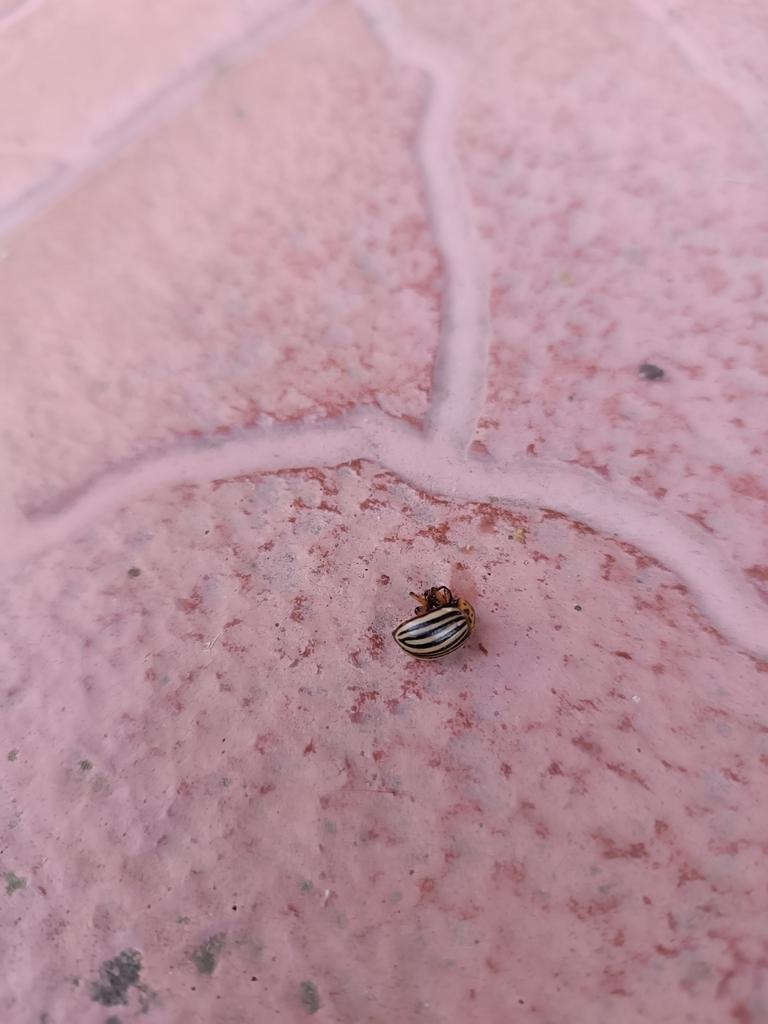potato_beetle: (365, 564, 509, 680)
